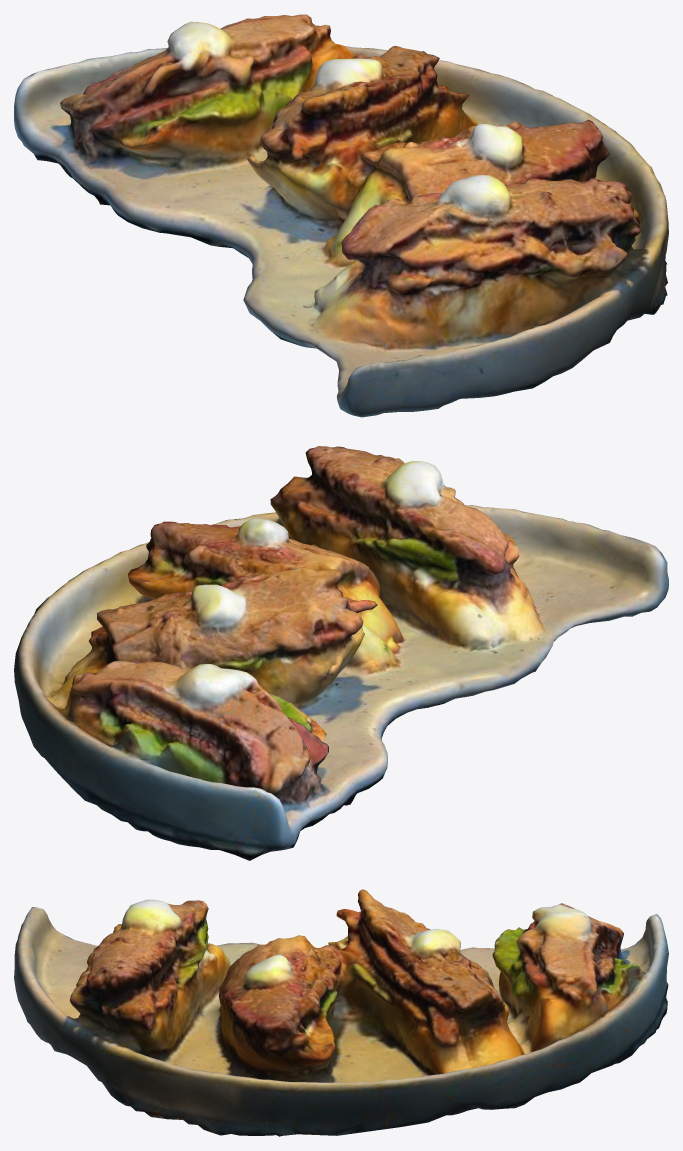
3 renders of one model, top to bottom at view 1: azimuth 30°, elevation 25°; view 2: azimuth 150°, elevation 25°; view 3: azimuth 270°, elevation 25°, orthographic. The views are drawn at different scales.
Parts seen in each view (by area): view 1: dish; view 2: dish; view 3: dish.
Boxes of the visible parts, x1=… form: dish: x1=14, y1=14, x2=668, y2=417; dish: x1=14, y1=446, x2=668, y2=860; dish: x1=14, y1=889, x2=668, y2=1136.
Size of the model in its own units: 0.184 by 0.0649 by 0.2763.
1 material, 1 textured.
